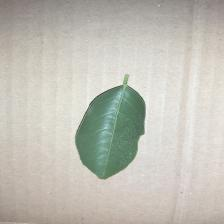healthy: (60, 85, 160, 190)
